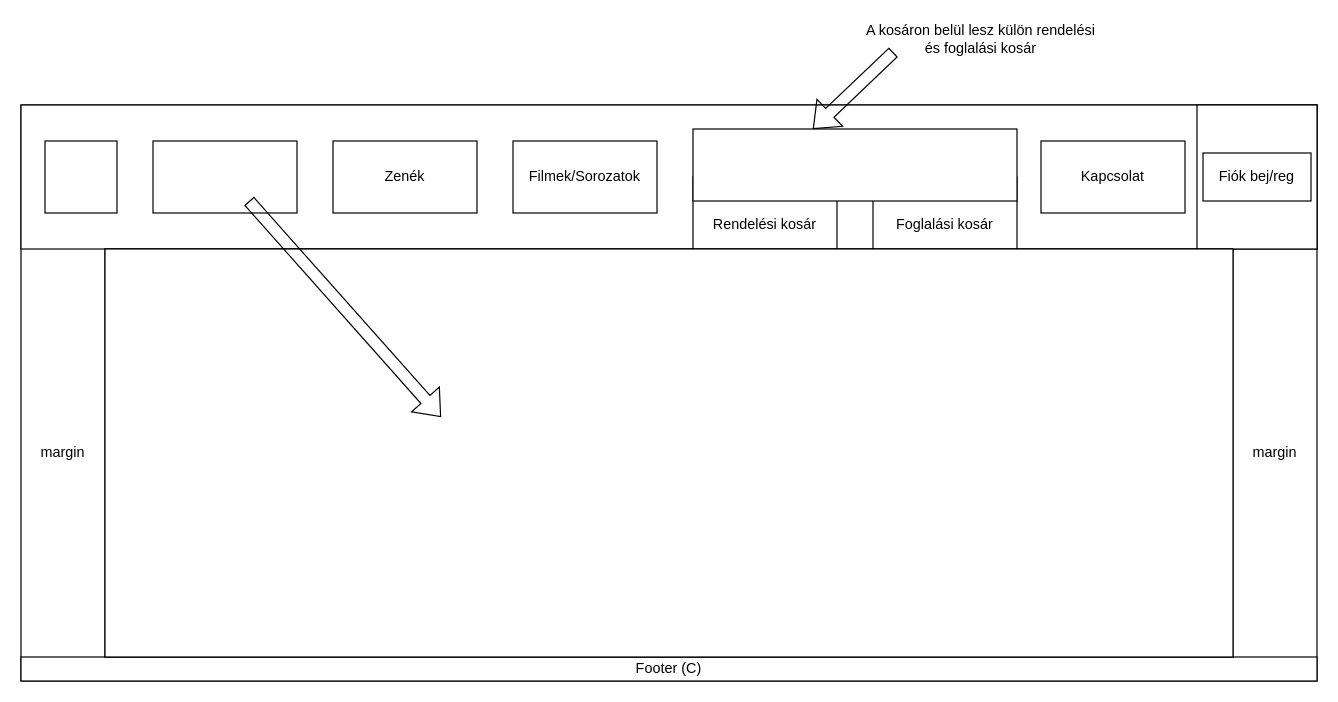
The diagram is 1338 pixels wide and 702 high, and some of its shapes have lost their labels. The centre of each missing label's shape, as x and y in pixels:
"Egyszerű bemutatkozó szöveg, kicsi leírás hogy mi ez pontosan, pár kép" belongs at point 668,452.
"Kezdőlap" belongs at point 224,176.
"Kosár" belongs at point 854,164.
"Logo" belongs at point 80,176.
